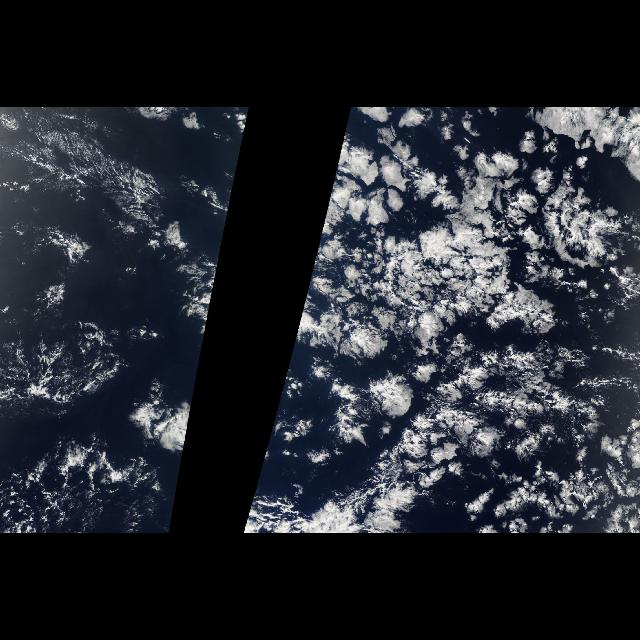Flower: (279, 111, 637, 533)
